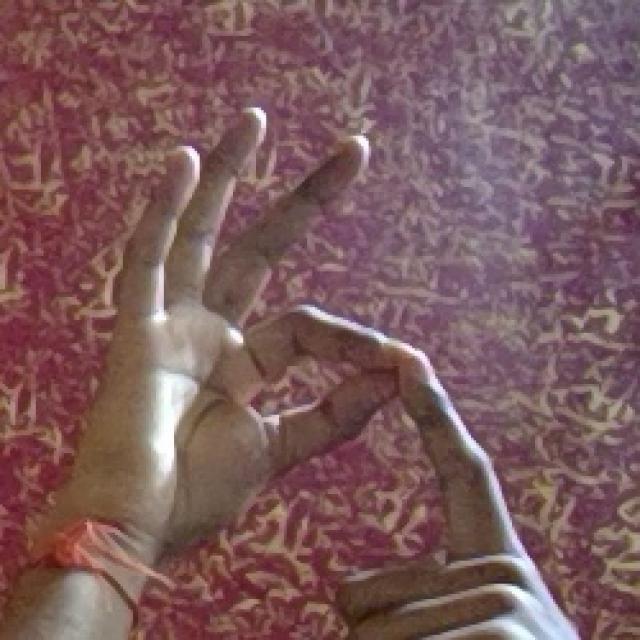Alphabet-P: (41, 61, 576, 640)
